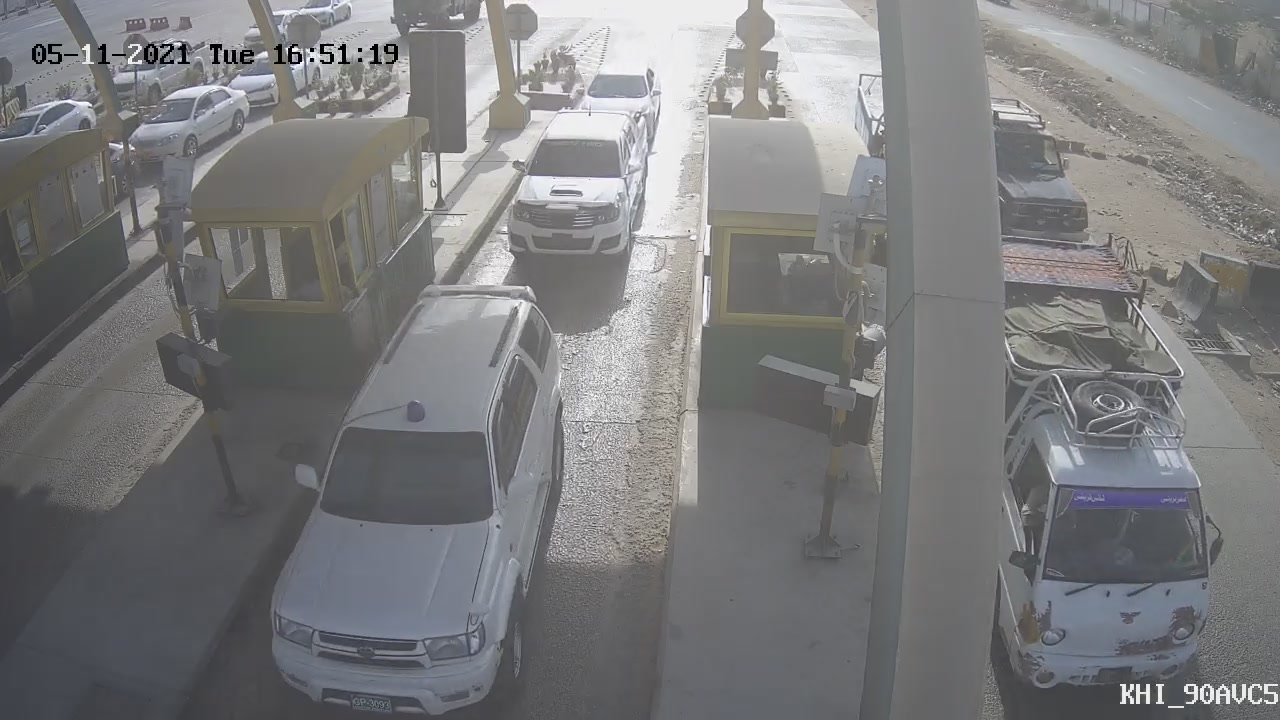F1: (484, 92, 666, 282)
